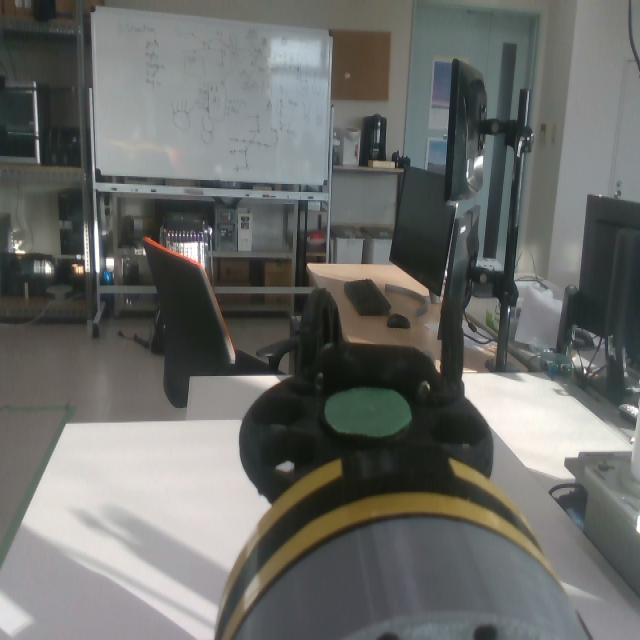body_connector: (228, 515, 588, 640)
connection: (214, 447, 592, 640)
leg: (213, 289, 553, 640)
leg_connector: (209, 448, 548, 636)
marker: (322, 385, 411, 434)
